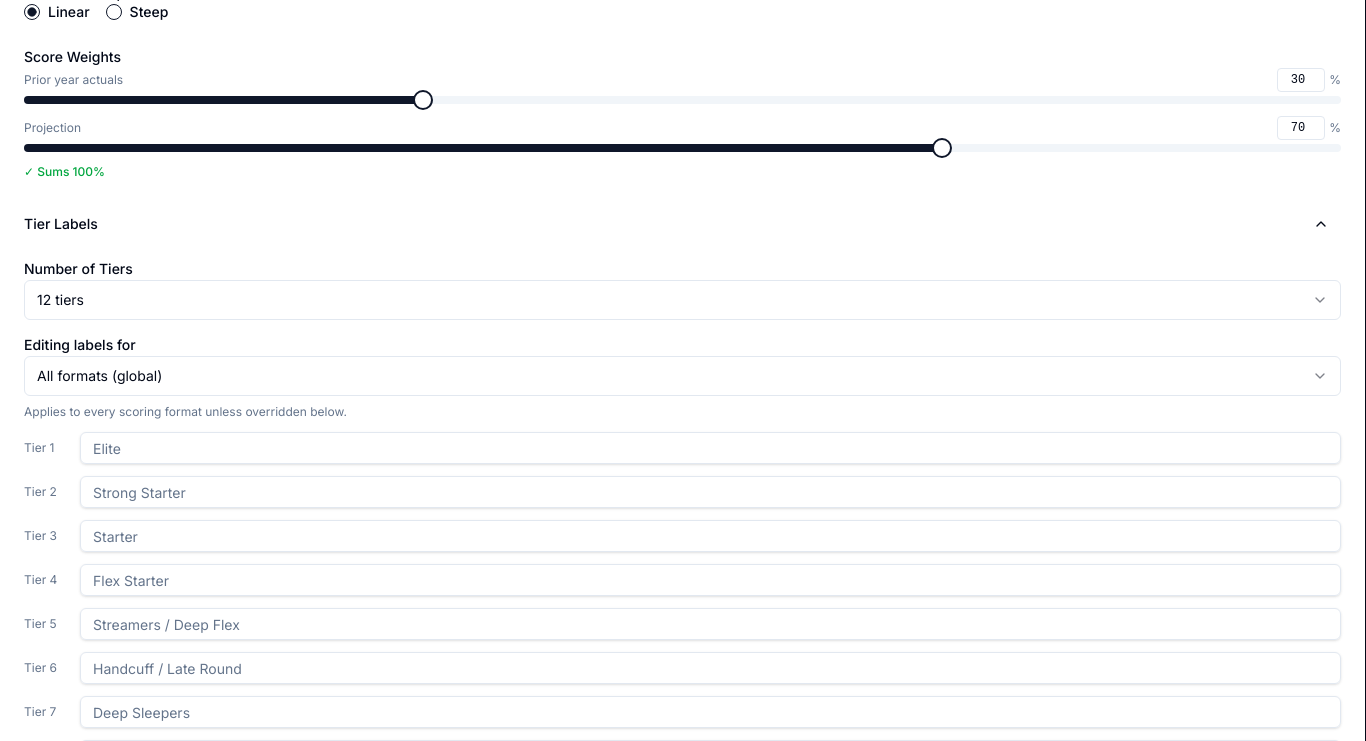
Test case: SettingsPanel — per-format tier labels (#164) › switching to a format shows that format's stored override
The image size is (1366, 741).
(page scrolled)
Check: the field named "Tier 1 label" is empty, box [80,432,1341,464]
What coordinates should you click on to do the following:
click the dropdown named "Editing labels for"
I would click on:
 (100, 376)
Its box is [24,356,1341,396].
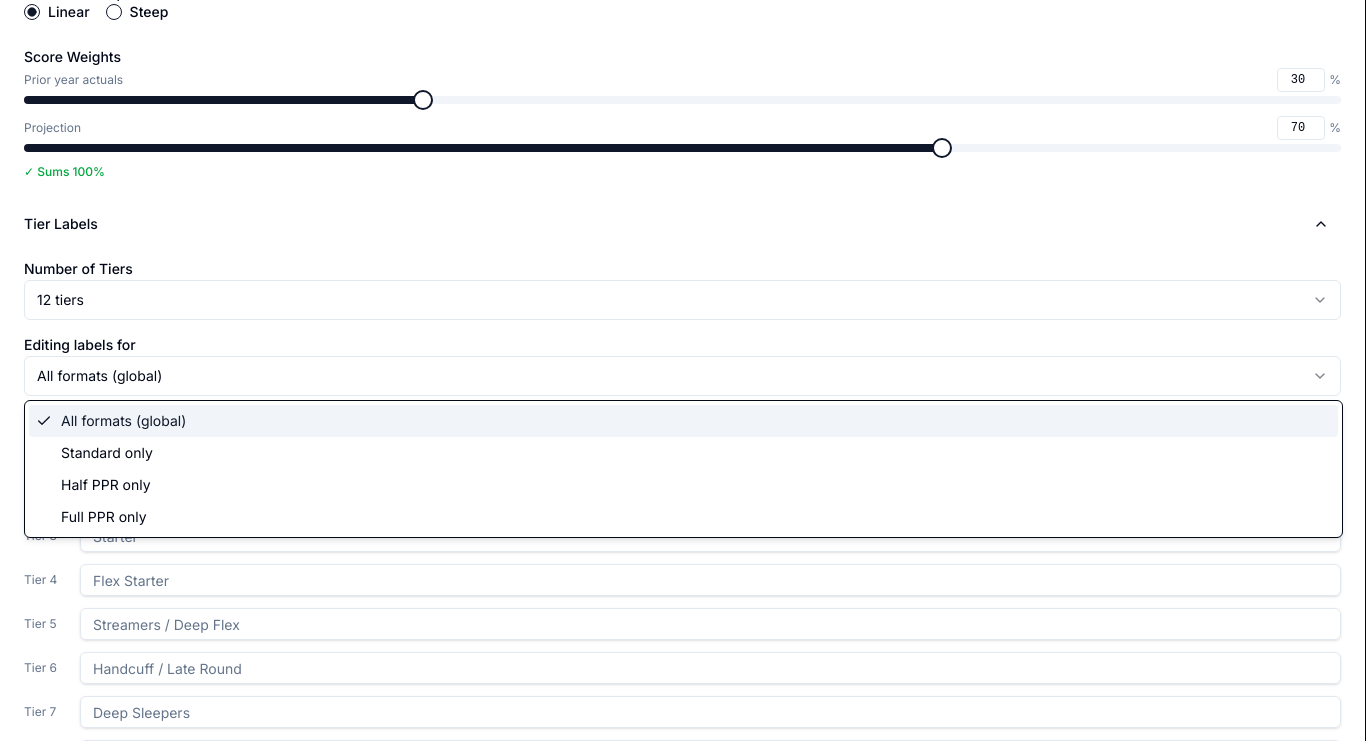
What coordinates should you click on to do the following:
click the option "Full PPR only"
I would click on:
 (104, 516)
Its box is [61,508,147,525].
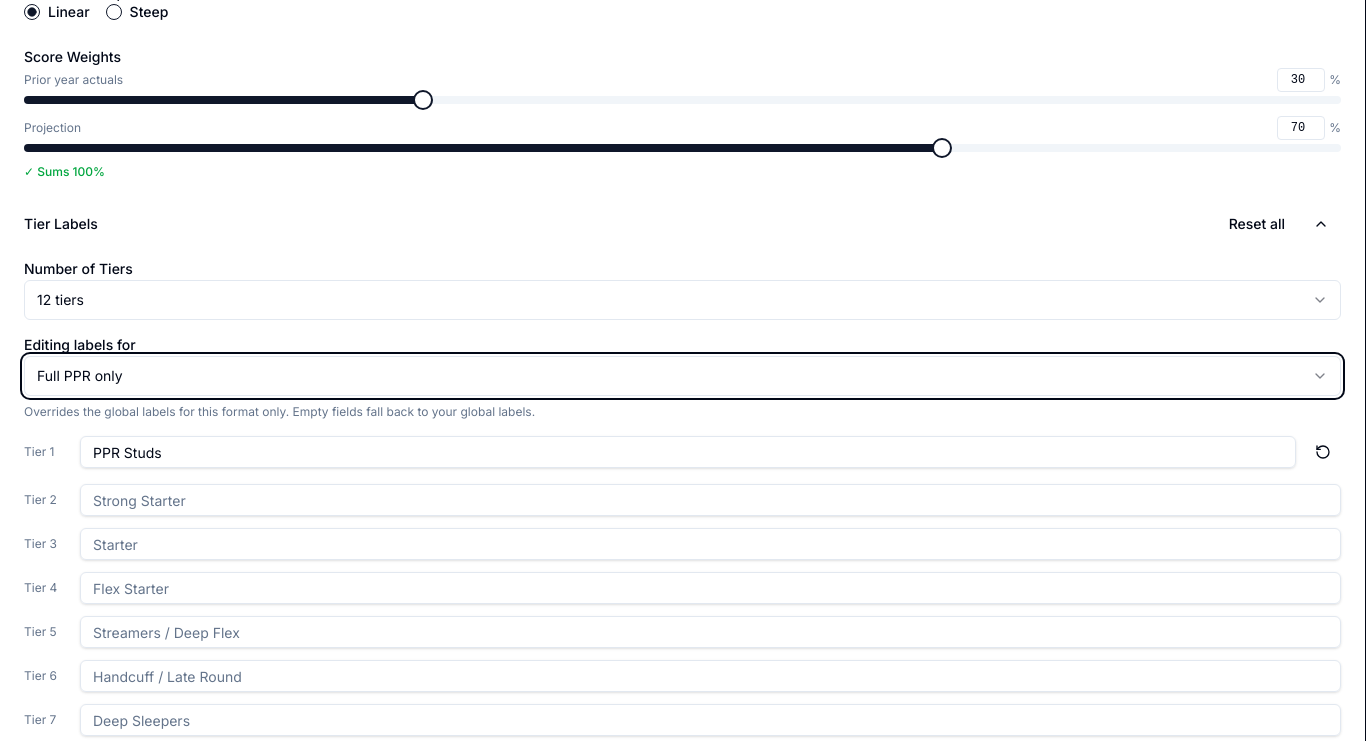
Check: the field named "Tier 1 label" holds "PPR Studs", box [80,436,1296,468]
